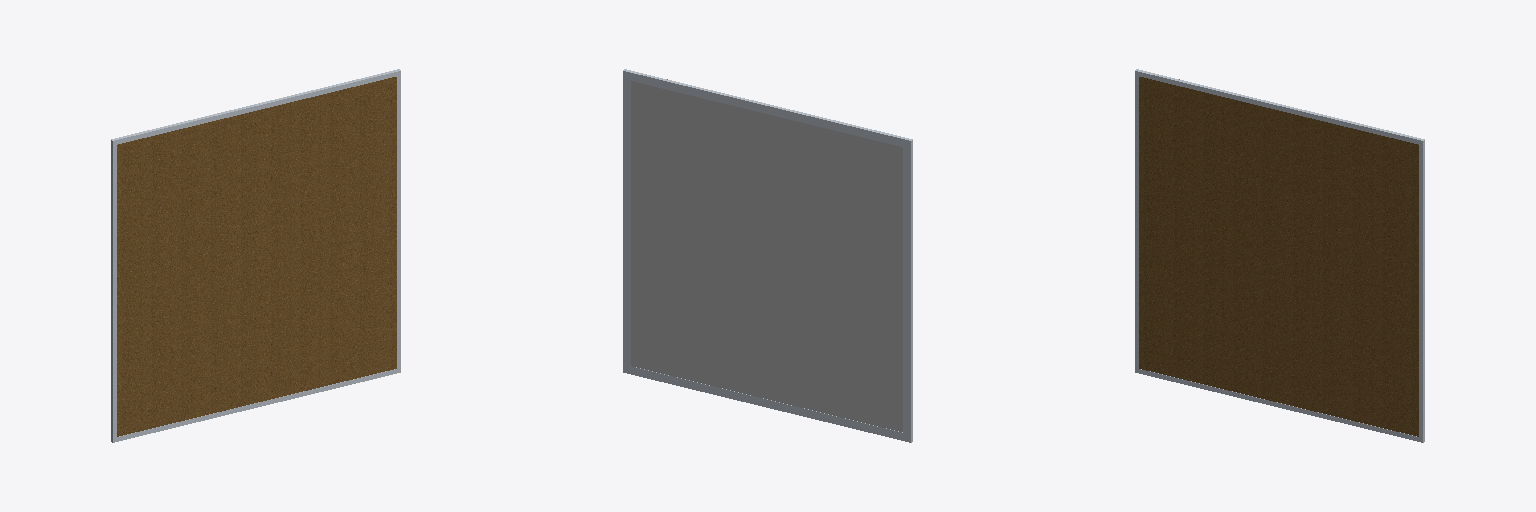
3 views of the same model, side by side, from view 1: azimuth 30°, elevation 25°; view 2: azimuth 150°, elevation 25°; view 3: azimuth 330°, elevation 25° (orthographic).
Parts seen in each view (by area): view 1: Mesh2 Group2 Tackboard1 G_03_PROTAK_T61__Bulletin_Board___610000, Mesh1 Group1 Tackboard1 G_03_PROTAK_T61__Bulletin_Board___610000; view 2: Mesh2 Group2 Tackboard1 G_03_PROTAK_T61__Bulletin_Board___610000, Mesh1 Group1 Tackboard1 G_03_PROTAK_T61__Bulletin_Board___610000; view 3: Mesh2 Group2 Tackboard1 G_03_PROTAK_T61__Bulletin_Board___610000, Mesh1 Group1 Tackboard1 G_03_PROTAK_T61__Bulletin_Board___610000.
Boxes of the visible parts, x1=… form: Mesh2 Group2 Tackboard1 G_03_PROTAK_T61__Bulletin_Board___610000: x1=117, y1=77, x2=396, y2=436; Mesh1 Group1 Tackboard1 G_03_PROTAK_T61__Bulletin_Board___610000: x1=111, y1=69, x2=400, y2=442; Mesh2 Group2 Tackboard1 G_03_PROTAK_T61__Bulletin_Board___610000: x1=631, y1=81, x2=902, y2=431; Mesh1 Group1 Tackboard1 G_03_PROTAK_T61__Bulletin_Board___610000: x1=623, y1=69, x2=912, y2=442; Mesh2 Group2 Tackboard1 G_03_PROTAK_T61__Bulletin_Board___610000: x1=1139, y1=77, x2=1418, y2=436; Mesh1 Group1 Tackboard1 G_03_PROTAK_T61__Bulletin_Board___610000: x1=1135, y1=69, x2=1424, y2=442.
Bounding box in the file's own units: 48.38 × 48.38 × 0.625.
5 materials, 1 textured.